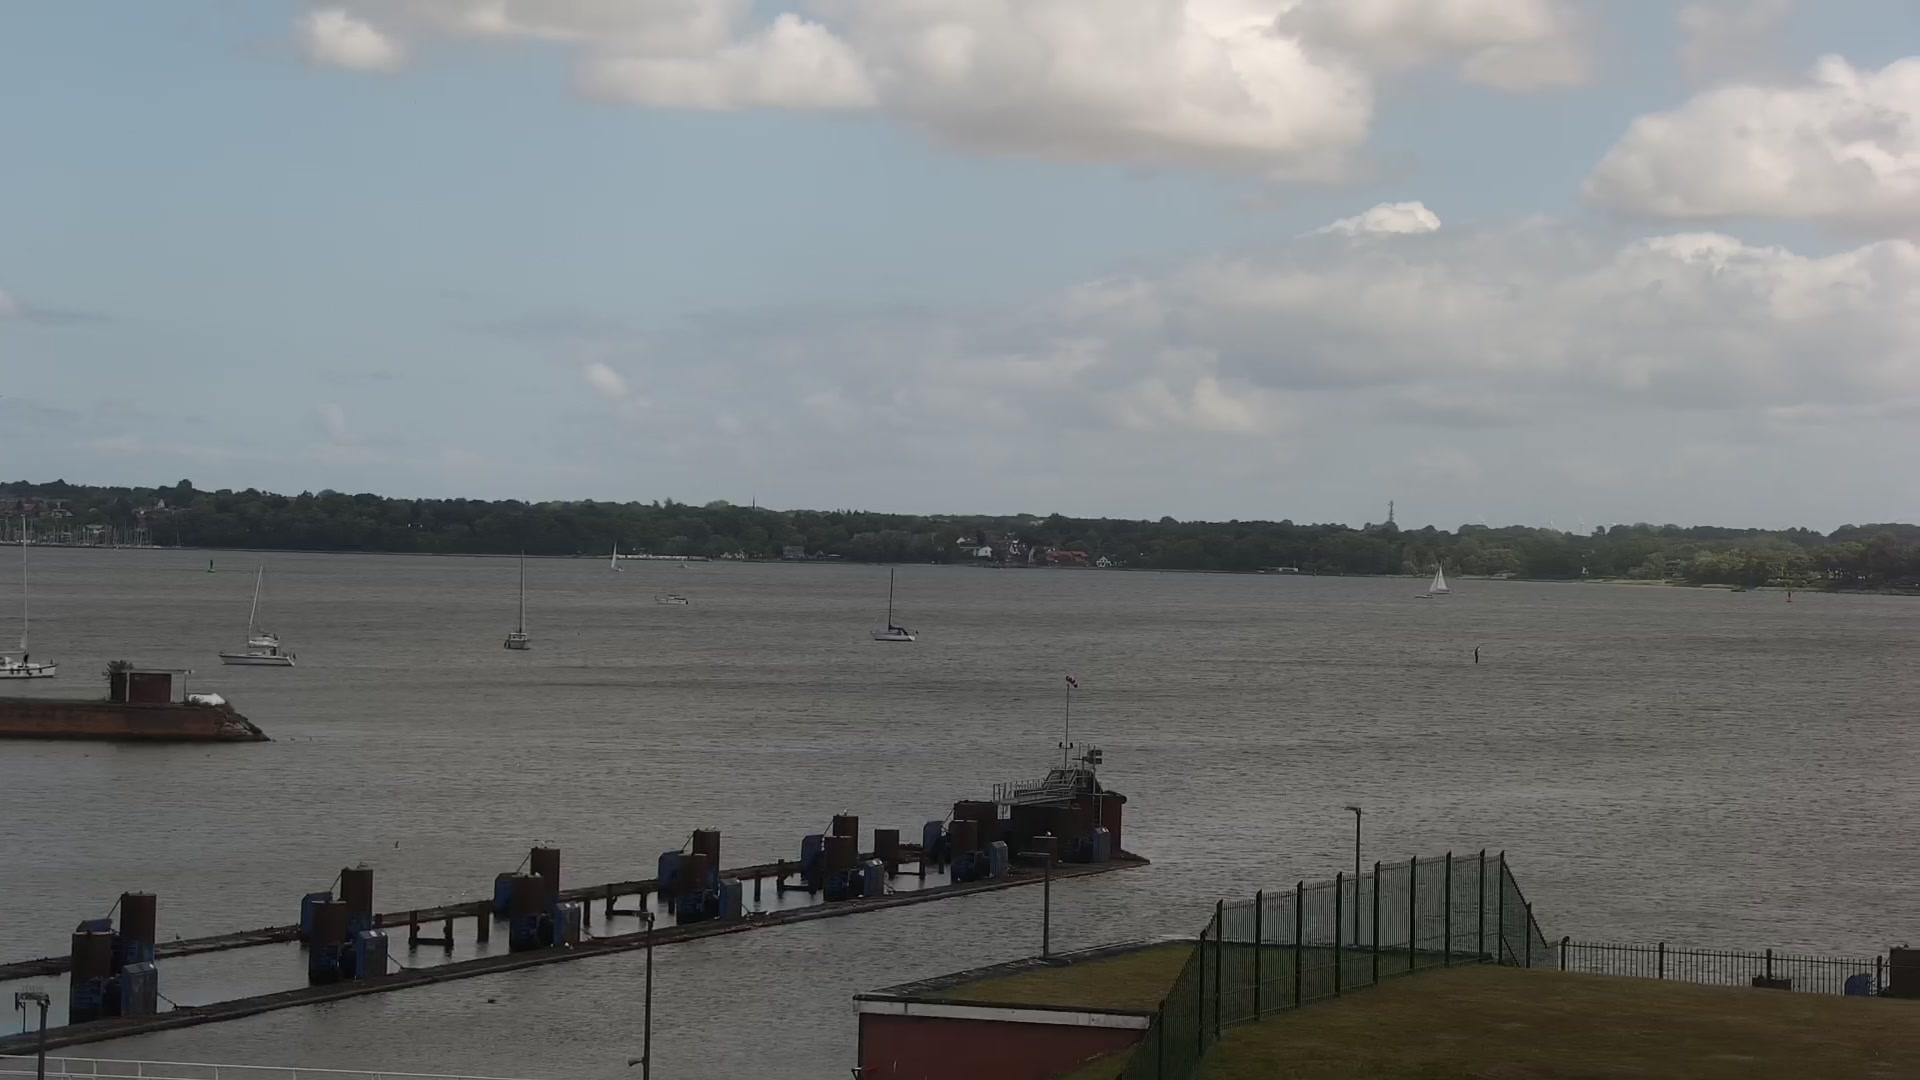sea: (1, 512, 61, 678), (218, 560, 297, 667), (868, 567, 919, 642), (502, 547, 533, 650), (1425, 556, 1451, 596), (608, 541, 624, 574), (653, 592, 688, 605), (1727, 584, 1745, 592), (1414, 592, 1433, 599), (678, 560, 686, 568)
